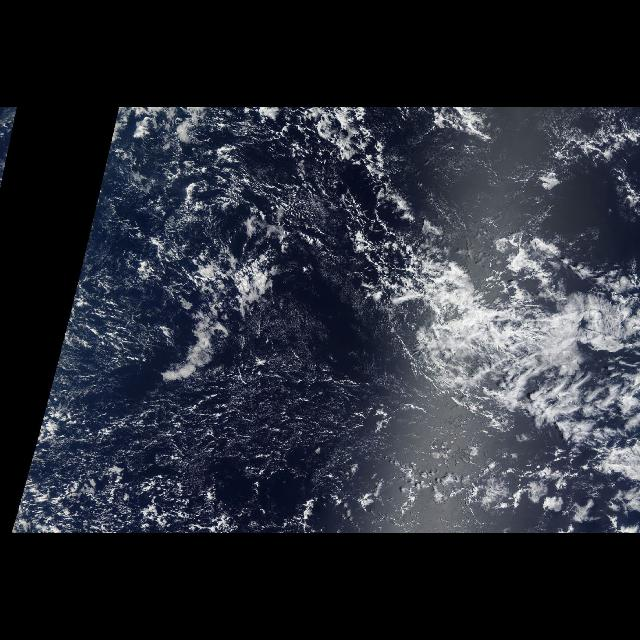Fish: (259, 188, 636, 436)
Gravel: (41, 287, 386, 481), (418, 142, 626, 238)
Sugar: (32, 332, 424, 530)
